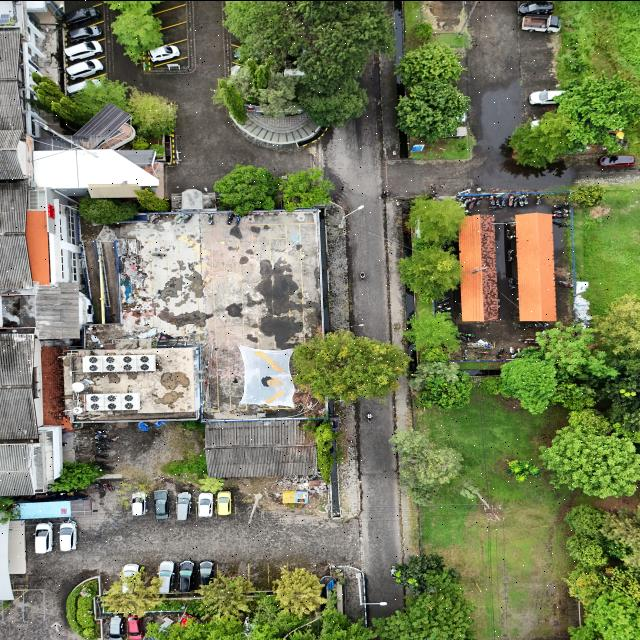Tree: (292, 331, 406, 399), (386, 427, 464, 502), (394, 83, 476, 139), (493, 354, 559, 414), (263, 564, 329, 616), (108, 8, 172, 60), (398, 245, 460, 298), (398, 198, 463, 245), (411, 360, 470, 410), (208, 166, 278, 206), (407, 308, 459, 353), (277, 169, 334, 207), (48, 456, 107, 491), (508, 454, 544, 482)
